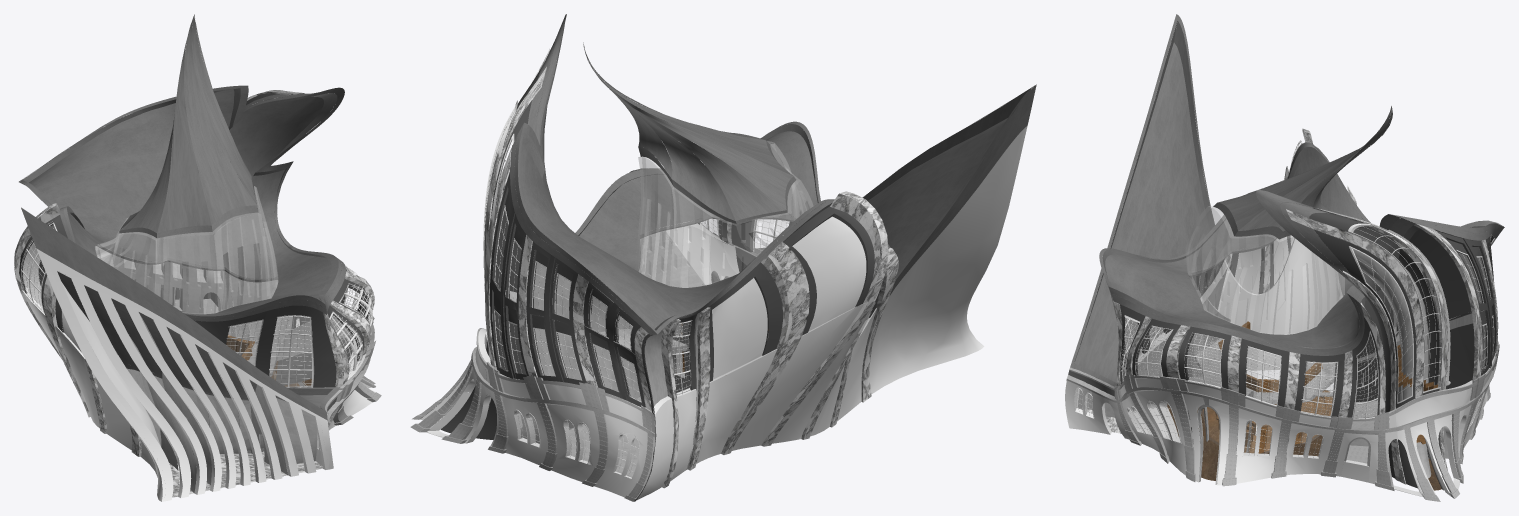
The picture shows the model from 3 angles, left to right: view 1: azimuth 30°, elevation 25°; view 2: azimuth 150°, elevation 25°; view 3: azimuth 270°, elevation 25°; orthographic projection. The views are drawn at different scales.
Visible parts, largest first — view 1: CONC2, CONC3, C1, glass, M1, BLACK, chrome; view 2: CONC2, CONC3, BLACK, M1, C1, chrome, glass; view 3: CONC2, CONC3, BLACK (×2), C1, glass, M1, chrome, marble brown.
Part boxes in pixels (x1=…): CONC2: x1=19, y1=14, x2=345, y2=420; CONC3: x1=22, y1=248, x2=375, y2=501; C1: x1=95, y1=244, x2=381, y2=492; glass: x1=95, y1=186, x2=299, y2=386; M1: x1=14, y1=90, x2=374, y2=497; BLACK: x1=19, y1=93, x2=371, y2=387; chrome: x1=21, y1=90, x2=373, y2=387; CONC2: x1=510, y1=14, x2=1036, y2=335; CONC3: x1=420, y1=126, x2=1027, y2=500; BLACK: x1=441, y1=70, x2=881, y2=501; M1: x1=484, y1=49, x2=898, y2=497; C1: x1=410, y1=222, x2=879, y2=501; chrome: x1=483, y1=100, x2=879, y2=479; glass: x1=635, y1=141, x2=813, y2=371; CONC2: x1=1068, y1=14, x2=1504, y2=396; CONC3: x1=1065, y1=210, x2=1495, y2=496; BLACK (×2): x1=1110, y1=213, x2=1498, y2=490; C1: x1=1066, y1=247, x2=1499, y2=501; glass: x1=1186, y1=206, x2=1344, y2=452; M1: x1=1079, y1=128, x2=1498, y2=484; chrome: x1=1074, y1=140, x2=1494, y2=459; marble brown: x1=1167, y1=404, x2=1441, y2=490.
Size of the model in its own units: 38.96 by 31.41 by 36.61.
Materials: 9 (5 with a texture image).
